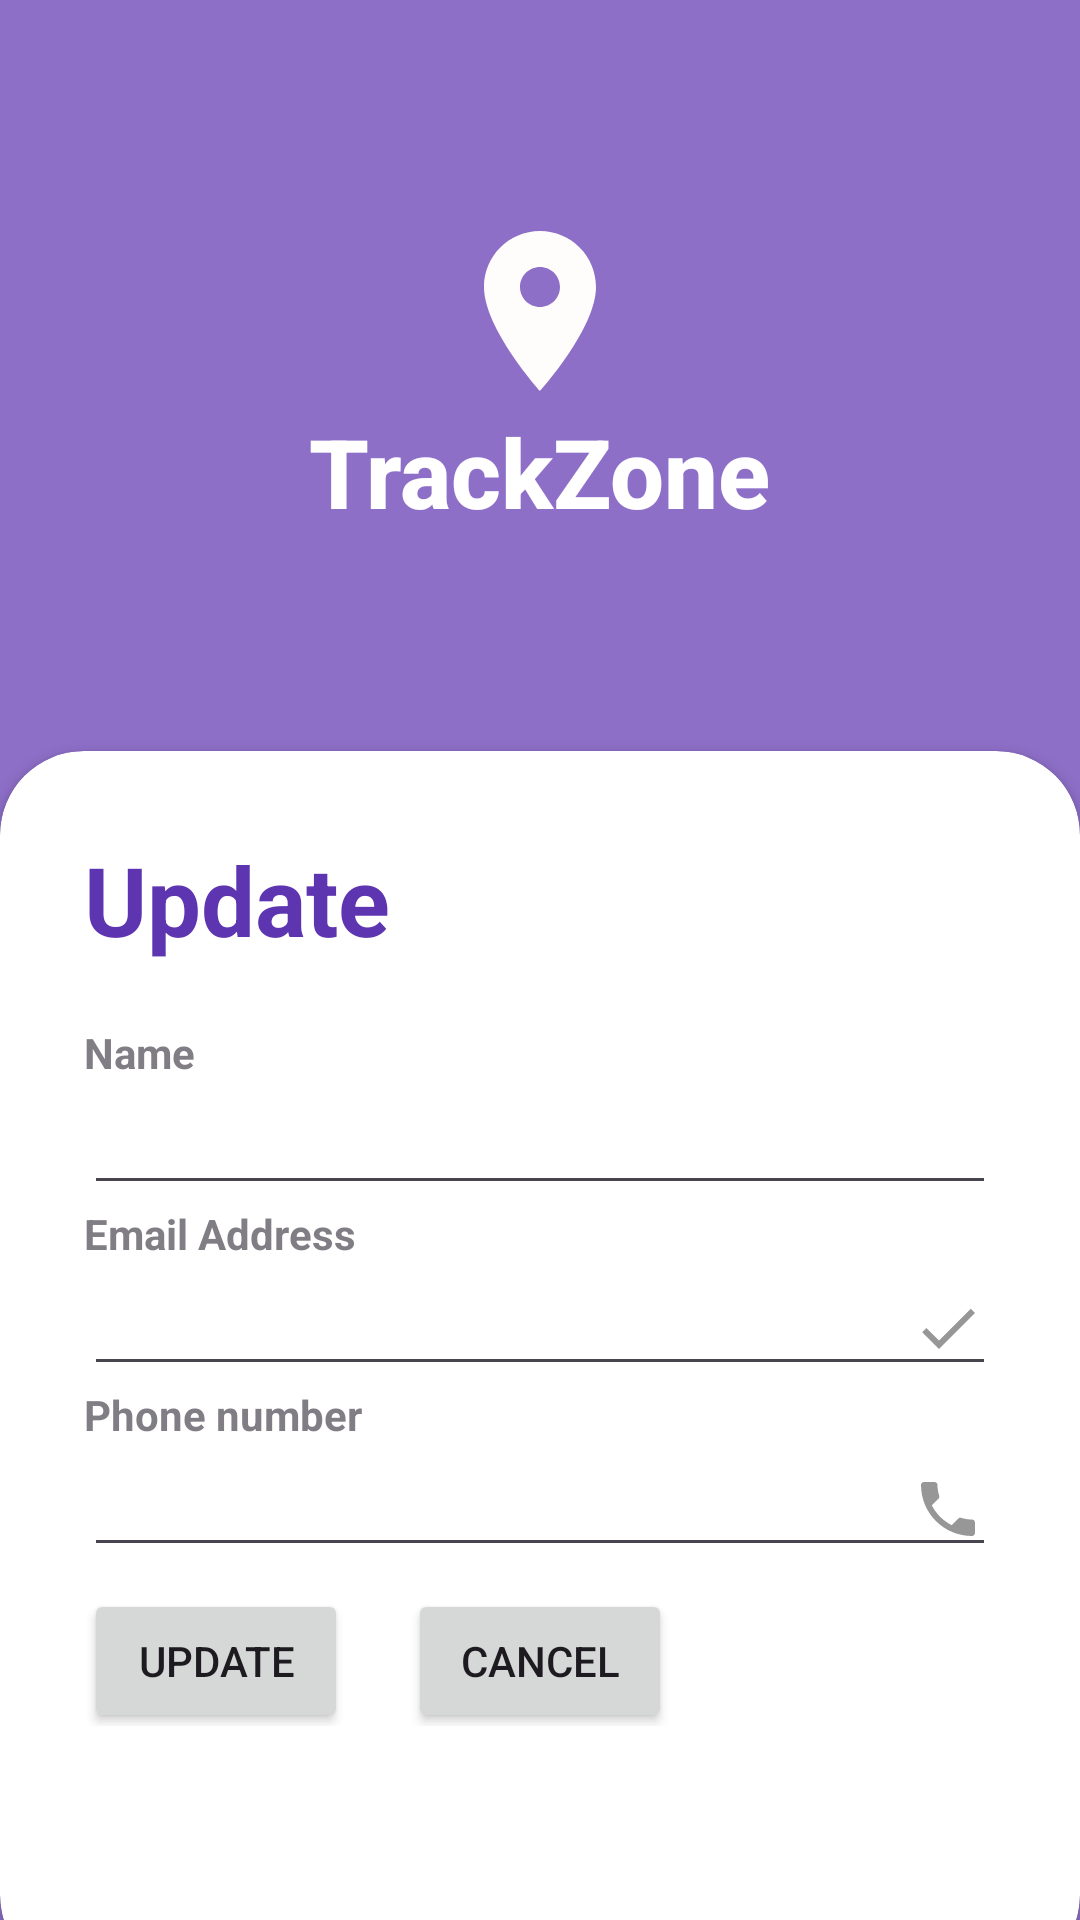

Screen size 1080×1920. Icon name, then its box in pixels as (x1, y1, x2, y2):
location: (484, 231, 596, 391)
